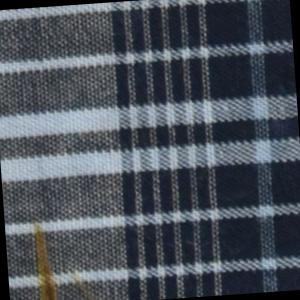Oil Stain: (29, 216, 99, 300)
